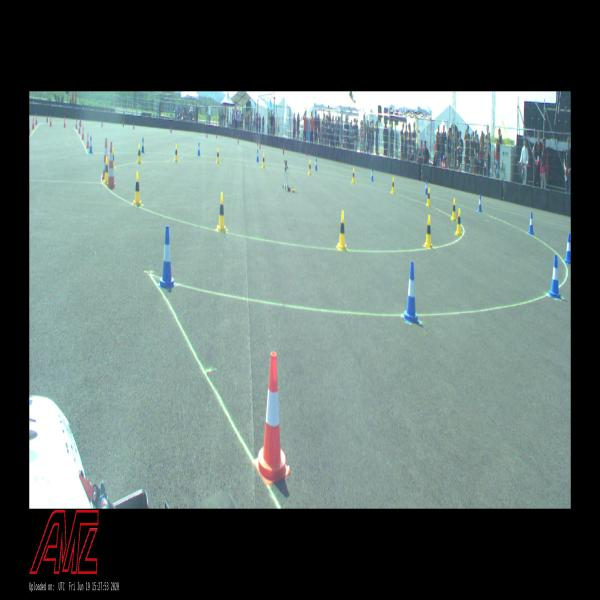blue_cone: (158, 226, 176, 290), (402, 262, 420, 324), (549, 255, 561, 299), (564, 234, 571, 264), (528, 212, 534, 235), (88, 136, 94, 153), (478, 194, 482, 212), (141, 138, 145, 153), (197, 142, 201, 156), (370, 168, 374, 182), (314, 158, 318, 171), (425, 180, 428, 195), (256, 149, 259, 162)
large_orange_cone: (106, 142, 116, 190), (102, 138, 108, 182)
orange_cone: (255, 353, 290, 485), (86, 132, 90, 148), (81, 126, 85, 139), (63, 117, 67, 128), (78, 122, 81, 134), (35, 114, 38, 125), (49, 115, 52, 126), (75, 118, 78, 129), (29, 121, 31, 135), (32, 116, 34, 129)
yellow_cone: (215, 193, 228, 232), (424, 214, 434, 250), (337, 211, 346, 249), (133, 171, 142, 207), (455, 209, 462, 236), (102, 157, 109, 184), (136, 144, 142, 163), (390, 177, 396, 194), (426, 188, 431, 208), (112, 147, 116, 171), (452, 199, 456, 220), (174, 145, 178, 162), (216, 147, 220, 164), (351, 168, 355, 184), (262, 153, 266, 168), (308, 160, 312, 175)
